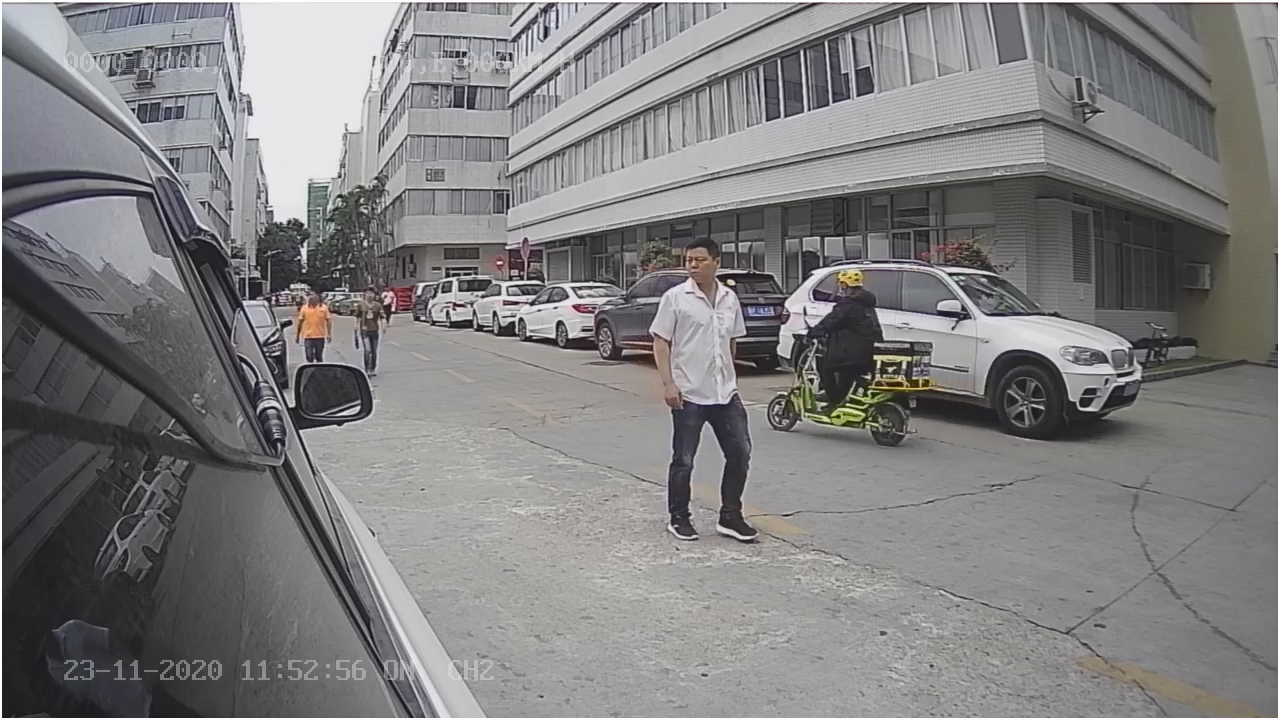person: (647, 243, 759, 552)
